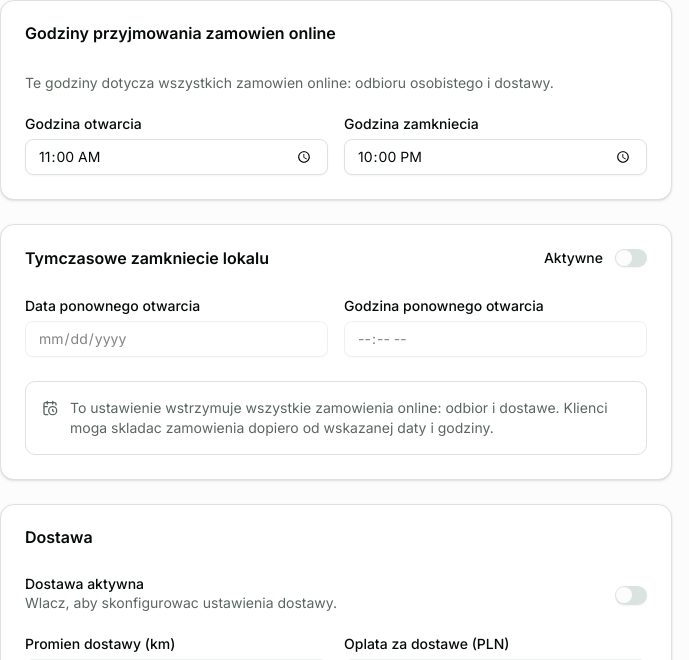
Test: DeliveryConfigForm › lets the operator quickly enable and disable temporary closure
The image size is (689, 660).
What coordinates should you click on to do the following:
click the switch named "Tymczasowe zamkniecie aktywne"
I would click on:
 (631, 258)
Its box is [615,249,647,267].
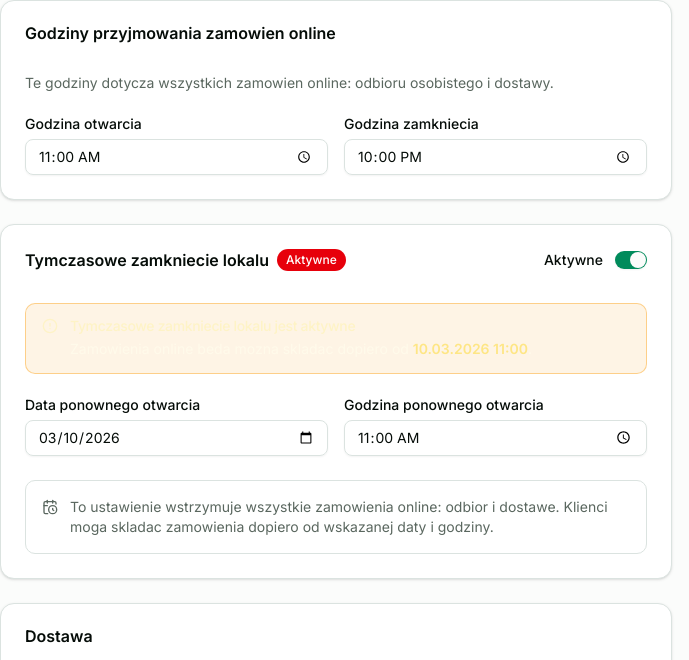
Expected: the switch named "Tymczasowe zamkniecie aktywne" is checked
Expected: the date field labelled "Data ponownego otwarcia" is enabled, [25,420,328,456]
Expected: the time field labelled "Godzina ponownego otwarcia" is enabled, [344,420,647,456]
What coordinates should you click on to do the following:
click the switch named "Tymczasowe zamkniecie aktywne"
I would click on:
 (631, 260)
Its box is [615,251,647,269].
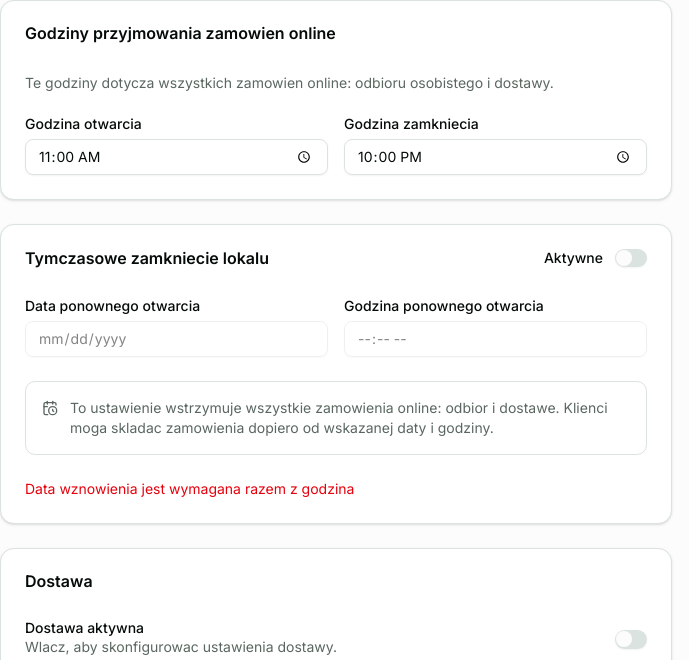
Expected: the switch named "Tymczasowe zamkniecie aktywne" is not checked, [615,249,647,267]
Expected: the date field labelled "Data ponownego otwarcia" is empty, [25,321,328,357]
Expected: the time field labelled "Godzina ponownego otwarcia" is empty, [344,321,647,357]
